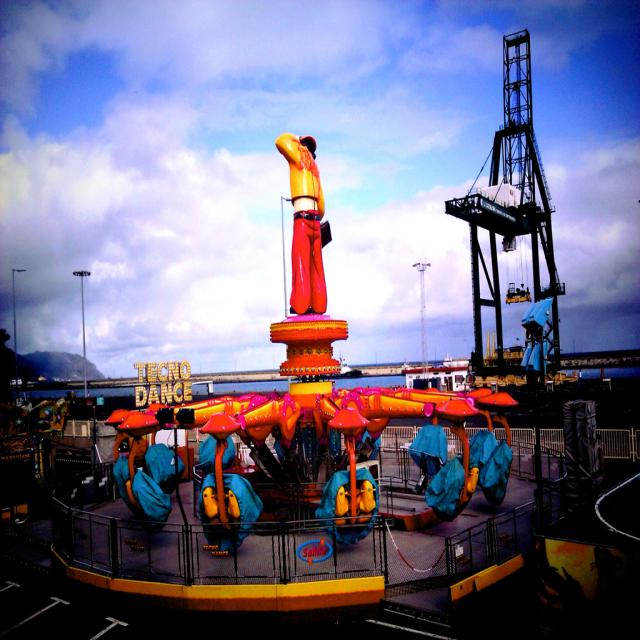Boat: (334, 351, 362, 381)
